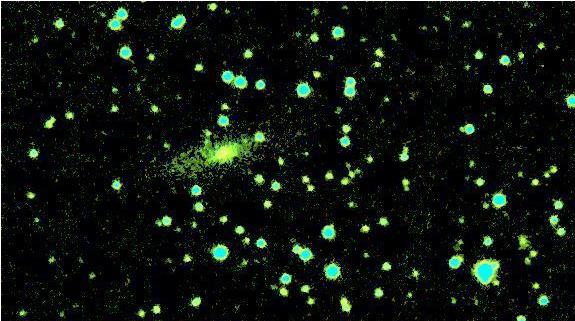star: (227, 126, 257, 156)
